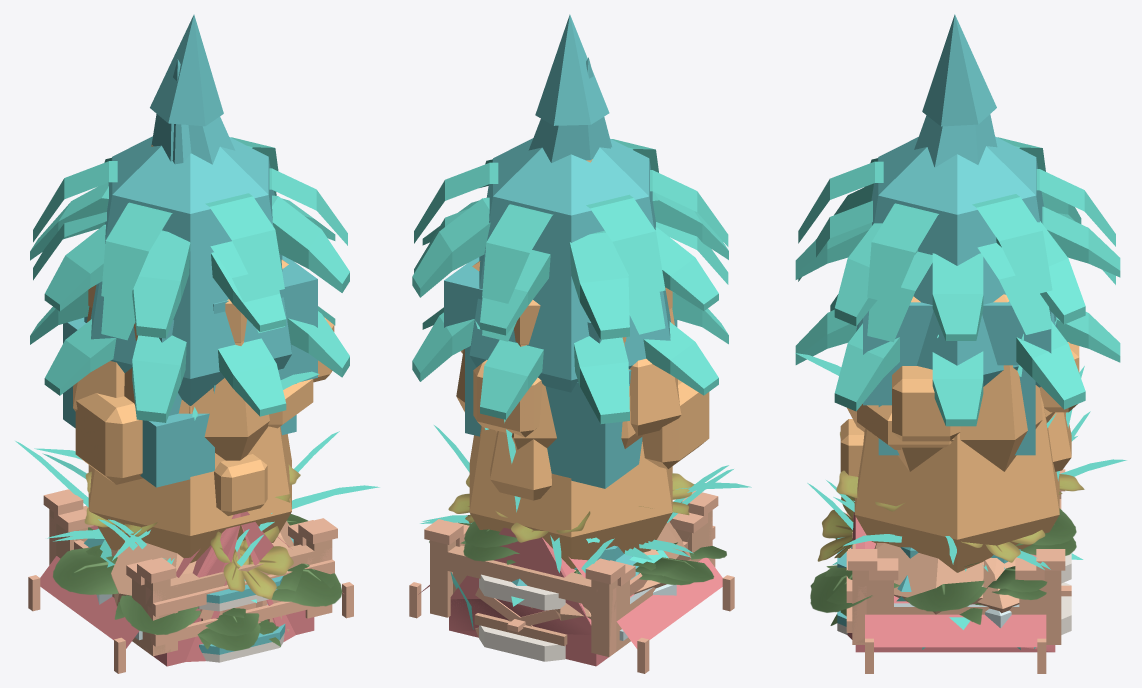
Rendered from simpleNatureAll.glb.
3 views of the same model, side by side, from view 1: azimuth 30°, elevation 25°; view 2: azimuth 150°, elevation 25°; view 3: azimuth 270°, elevation 25° (orthographic).
Parts seen in each view (by area): view 1: tree_default_dark, tree_palm, tree_fat_fall, tree_palmDetailedTall, Plant_Flowers, tree_blocks_dark, tree_detailed_fall, tree_palmDetailedShort, tree_pineTallD_detailed, tree_palmShort, tree_palmTall, tent_detailedOpen (+20 smaller); view 2: tree_default_dark, tree_fat_fall, tree_palmDetailedTall, tree_palm, tree_palmDetailedShort, tree_blocks_dark, bridge_woodRound, tree_pineTallD_detailed, tree_thin_fall, tent_detailedOpen, tree_detailed_fall, tree_palmShort (+16 smaller); view 3: tree_fat_fall, tree_default_dark, tree_palmDetailedTall, tree_palm, tree_palmDetailedShort, tree_pineTallD_detailed, Plant_Flowers, tent_detailedOpen, tree_blocks_dark, tree_palmBend, tree_oak_fall, tree_detailed_fall (+15 smaller).
Boxes of the visible parts, x1,y1,x2,y2 form: tree_default_dark: (90, 136, 291, 405); tree_palm: (33, 137, 347, 302); tree_fat_fall: (88, 406, 291, 563); tree_palmDetailedTall: (30, 183, 349, 338); Plant_Flowers: (53, 464, 342, 650); tree_blocks_dark: (63, 255, 317, 487); tree_detailed_fall: (75, 317, 334, 515); tree_palmDetailedShort: (30, 290, 349, 422); tree_pineTallD_detailed: (150, 14, 235, 164); tree_palmShort: (44, 306, 335, 416); tree_palmTall: (44, 216, 335, 332); tent_detailedOpen: (28, 513, 353, 673); tree_default_dark: (469, 138, 670, 392); tree_fat_fall: (469, 426, 672, 568); tree_palmDetailedTall: (412, 191, 728, 339); tree_palm: (414, 139, 728, 303); tree_palmDetailedShort: (412, 292, 728, 423); tree_blocks_dark: (444, 257, 677, 488); bridge_woodRound: (424, 490, 718, 656); tree_pineTallD_detailed: (528, 14, 610, 162); tree_thin_fall: (490, 359, 681, 500); tent_detailedOpen: (409, 535, 734, 673); tree_detailed_fall: (461, 350, 709, 469); tree_palmShort: (480, 321, 718, 419); tree_fat_fall: (854, 396, 1059, 572); tree_default_dark: (856, 136, 1057, 387); tree_palmDetailedTall: (795, 183, 1120, 340); tree_palm: (798, 137, 1115, 303); tree_palmDetailedShort: (795, 294, 1120, 426); tree_pineTallD_detailed: (914, 14, 997, 167); Plant_Flowers: (810, 431, 1084, 612); tent_detailedOpen: (855, 518, 1054, 673); tree_blocks_dark: (863, 301, 1051, 455); tree_palmBend: (798, 200, 1115, 342); tree_oak_fall: (847, 365, 1054, 471); tree_detailed_fall: (840, 342, 1079, 476).
Bounding box in the file's own units: 1.6 × 3.22 × 1.66.
23 materials, 1 textured.
